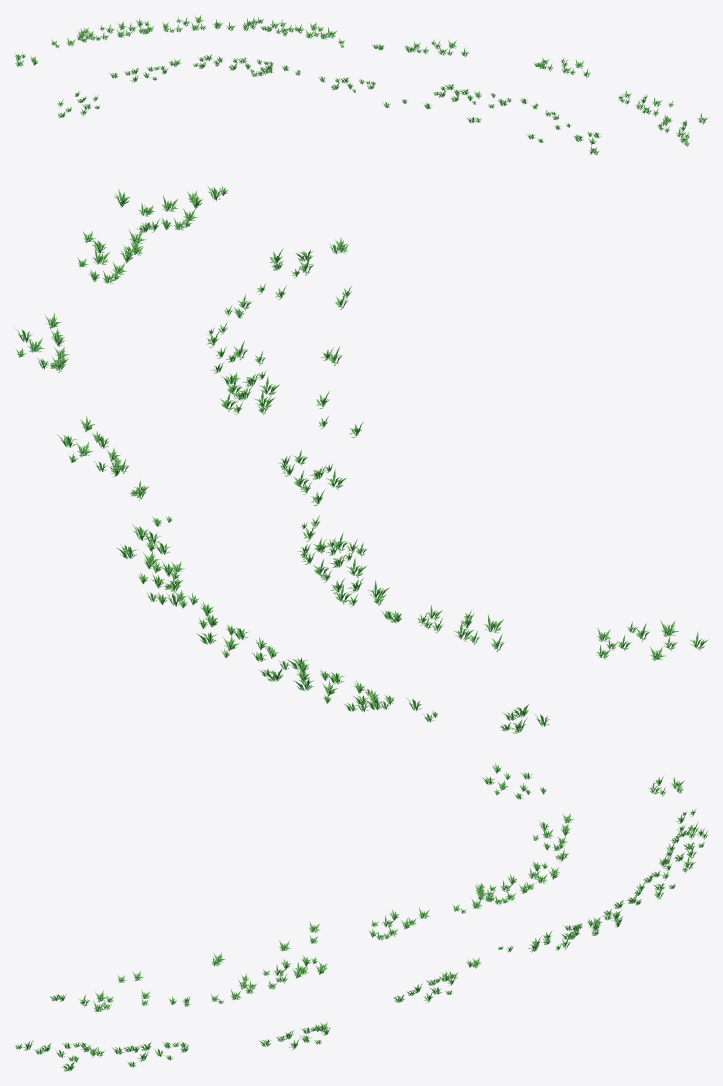
Rendered from Area_07_23.fbx.
3 renders of one model, top to bottom at view 1: azimuth 30°, elevation 25°; view 2: azimuth 150°, elevation 25°; view 3: azimuth 270°, elevation 25°, orthographic. The views are drawn at different scales.
Visible parts, largest first — view 1: Area_07_23; view 2: Area_07_23; view 3: Area_07_23.
Part boxes in pixels (x1,y1,x2,y2): Area_07_23: [14, 15, 707, 154]; Area_07_23: [14, 184, 708, 733]; Area_07_23: [15, 763, 708, 1071].
Size of the model in its own units: 5864 by 108 by 5656.
